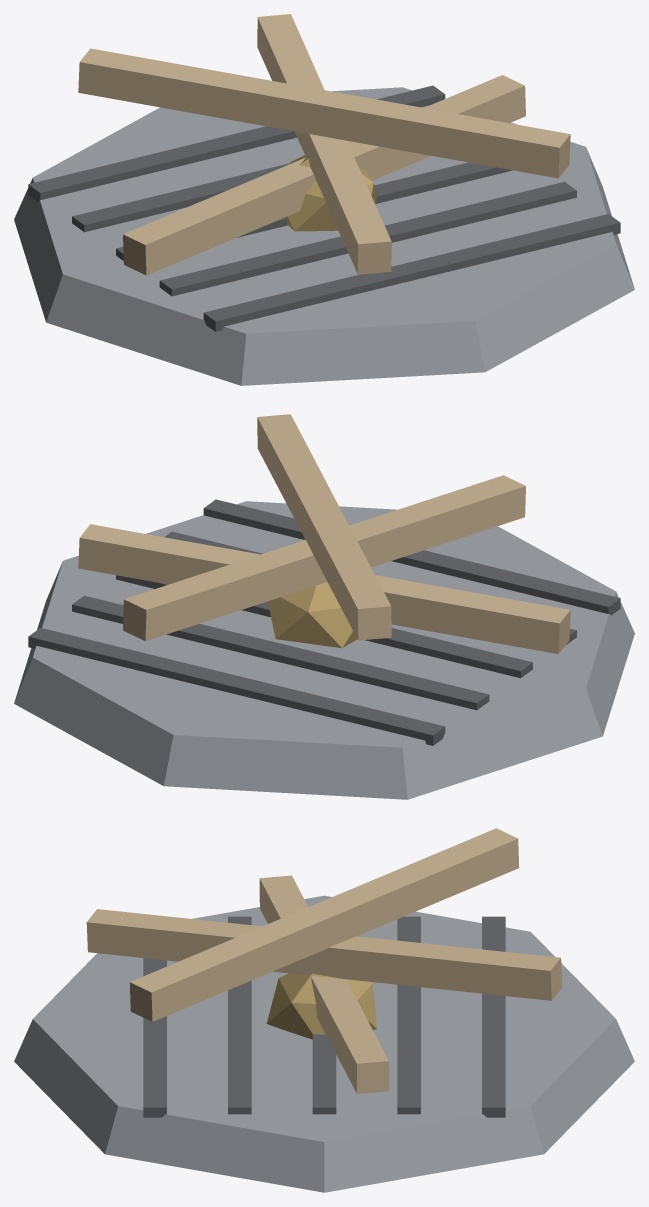
File: brazier_laid.glb
3 renders of one model, top to bottom at view 1: azimuth 30°, elevation 25°; view 2: azimuth 150°, elevation 25°; view 3: azimuth 270°, elevation 25°, orthographic. The views are drawn at different scales.
Parts seen in each view (by area): view 1: silverfog_d20, driftwood_l5, silverfog_d50, kindle_d25; view 2: silverfog_d20, driftwood_l5, silverfog_d50, kindle_d25; view 3: silverfog_d20, driftwood_l5, silverfog_d50, kindle_d25.
Part boxes in pixels (<box>): silverfog_d20: <box>14,87,634,385</box>; driftwood_l5: <box>78,14,570,275</box>; silverfog_d50: <box>28,85,620,331</box>; kindle_d25: <box>285,155,376,231</box>; silverfog_d20: <box>14,501,634,799</box>; driftwood_l5: <box>78,414,570,653</box>; silverfog_d50: <box>28,499,620,745</box>; kindle_d25: <box>268,582,357,648</box>; silverfog_d20: <box>14,895,634,1192</box>; driftwood_l5: <box>86,828,562,1093</box>; silverfog_d50: <box>143,916,505,1117</box>; kindle_d25: <box>266,973,376,1039</box>.
Bounding box in the file's own units: 0.66 × 0.1875 × 0.66.
